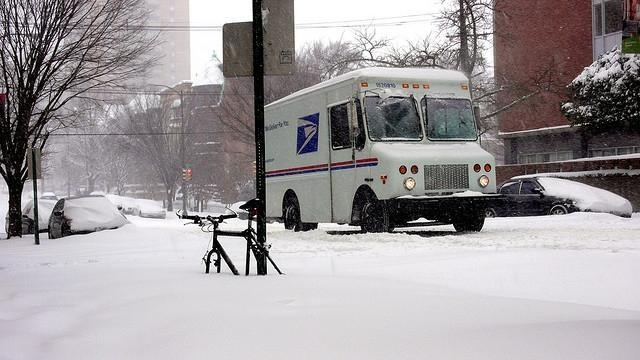bicycle: (178, 198, 282, 276)
car: (486, 175, 632, 218), (44, 194, 134, 240), (22, 200, 56, 234), (122, 197, 166, 218), (230, 201, 248, 220), (115, 196, 128, 210), (40, 192, 59, 200), (177, 186, 184, 200)
truck: (260, 67, 501, 240)
